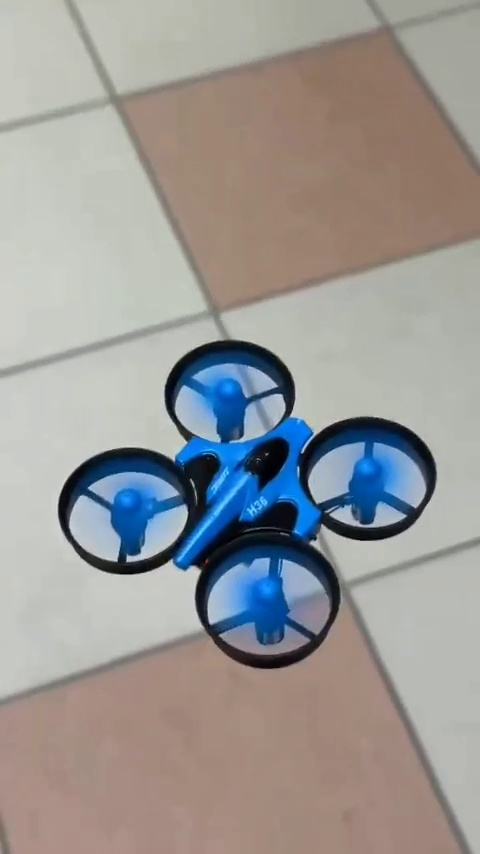drone: (57, 342, 435, 673)
